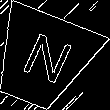N_SW: (11, 29, 73, 91)
